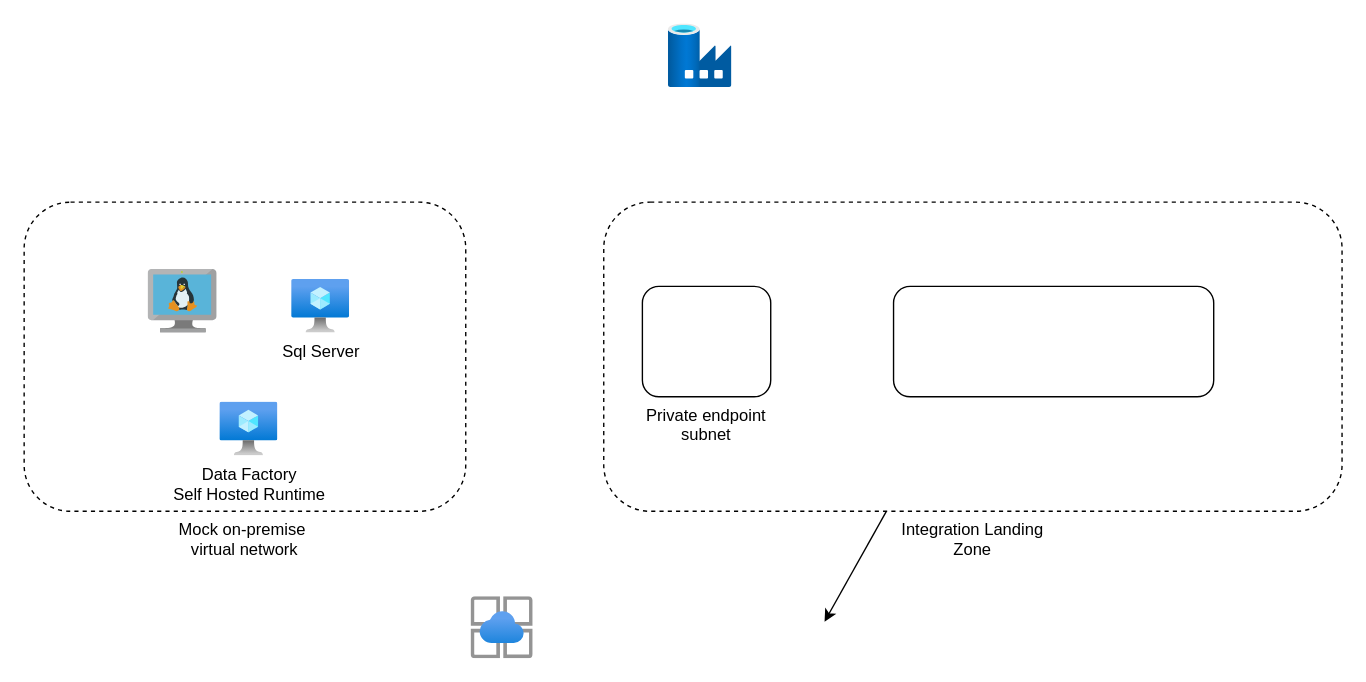
This 1366x682 diagram has some shape labels left out. The shapes that lost their labels are listed below. From the top down, each one's centre as x and y in pixels, then its label:
At point (182, 301): "File Exchange".
At point (1053, 341): "App Service Environment Subnet".
